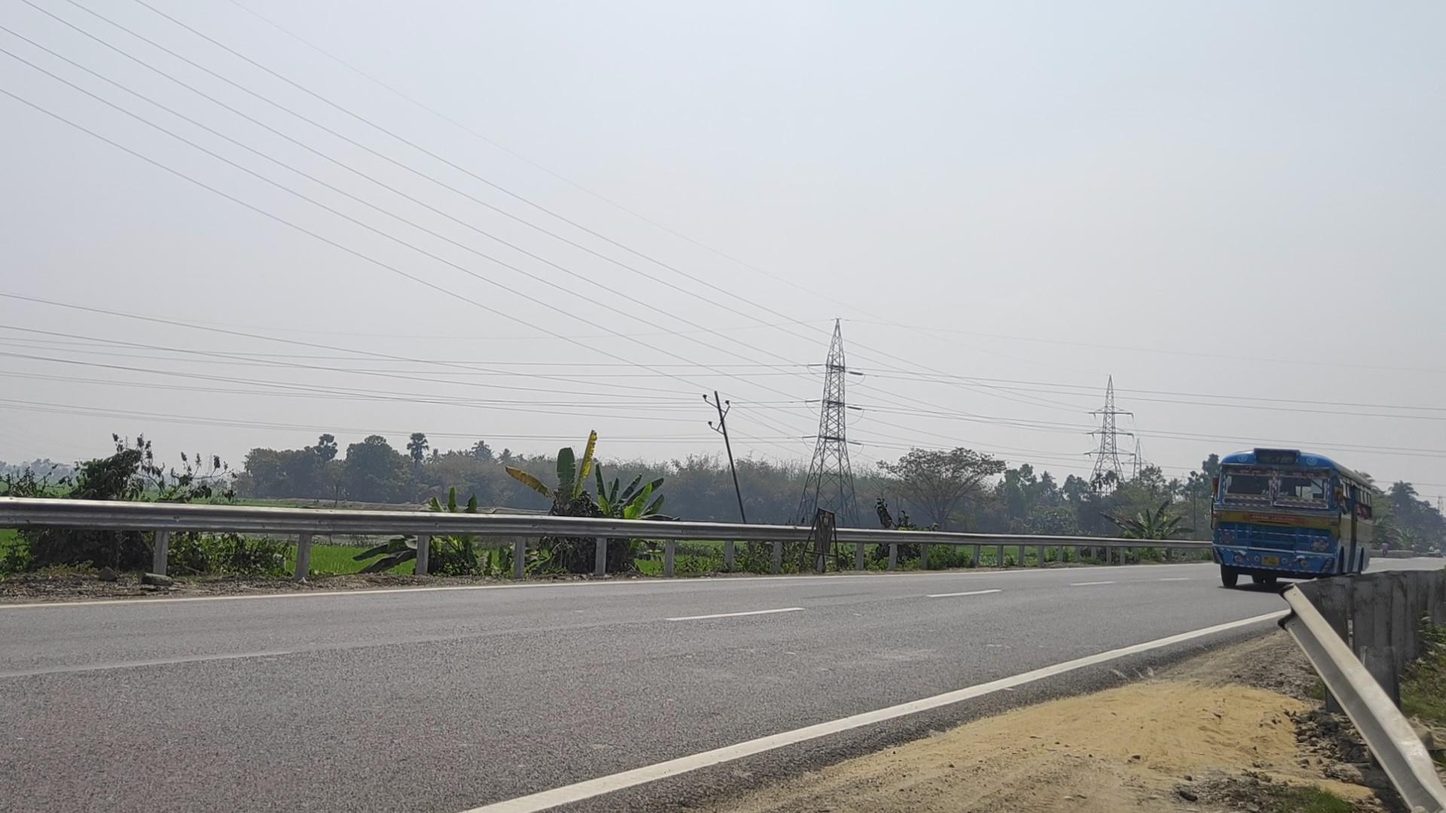Bus: (1211, 447, 1373, 592)
